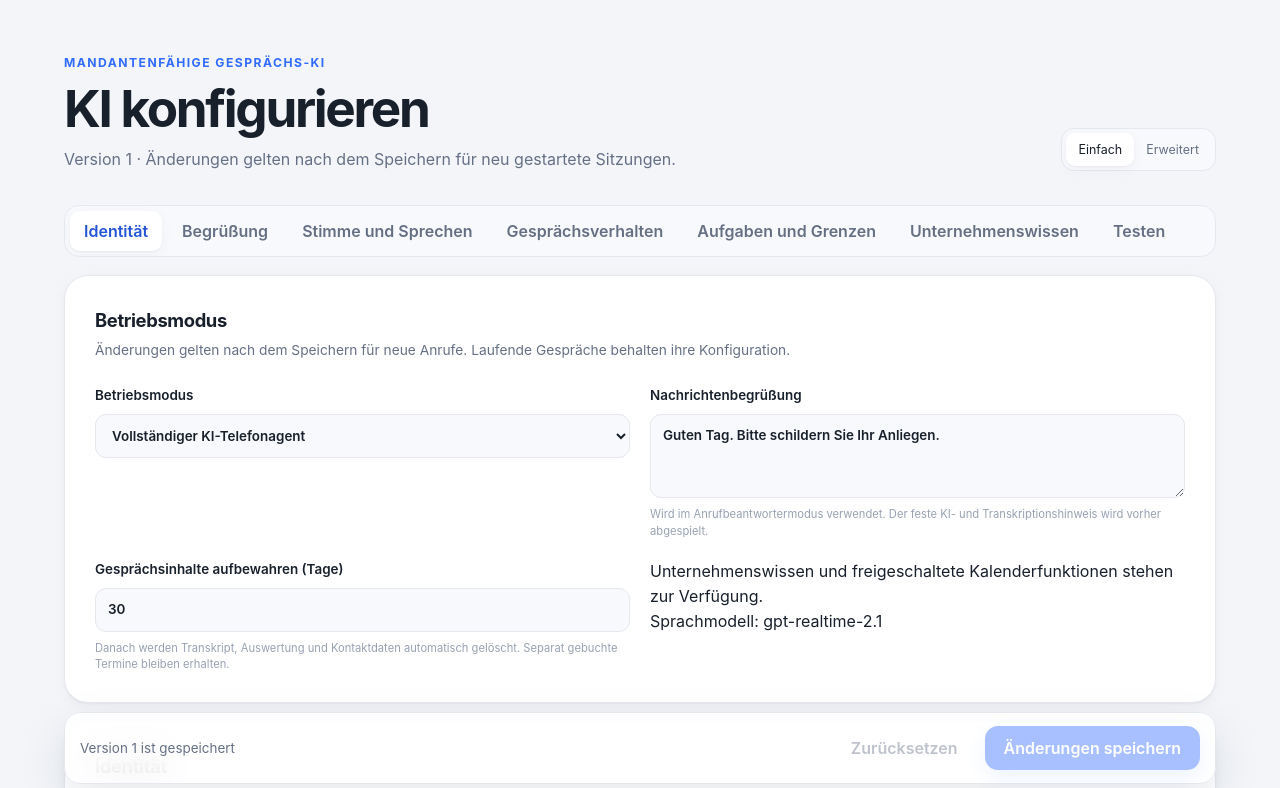
it: KI-Einstellungen › speichert Betriebsmodus, Nachrichtenbegrüßung und Löschfrist
The image size is (1280, 788).
Expected: the heading "KI konfigurieren" is shown, [64,77,428,139]
Select "Intelligenter Anrufbeantworter" in the dropdown labelled "Betriebsmodus" at {"x": 362, "y": 436}, box [95,414,630,458]
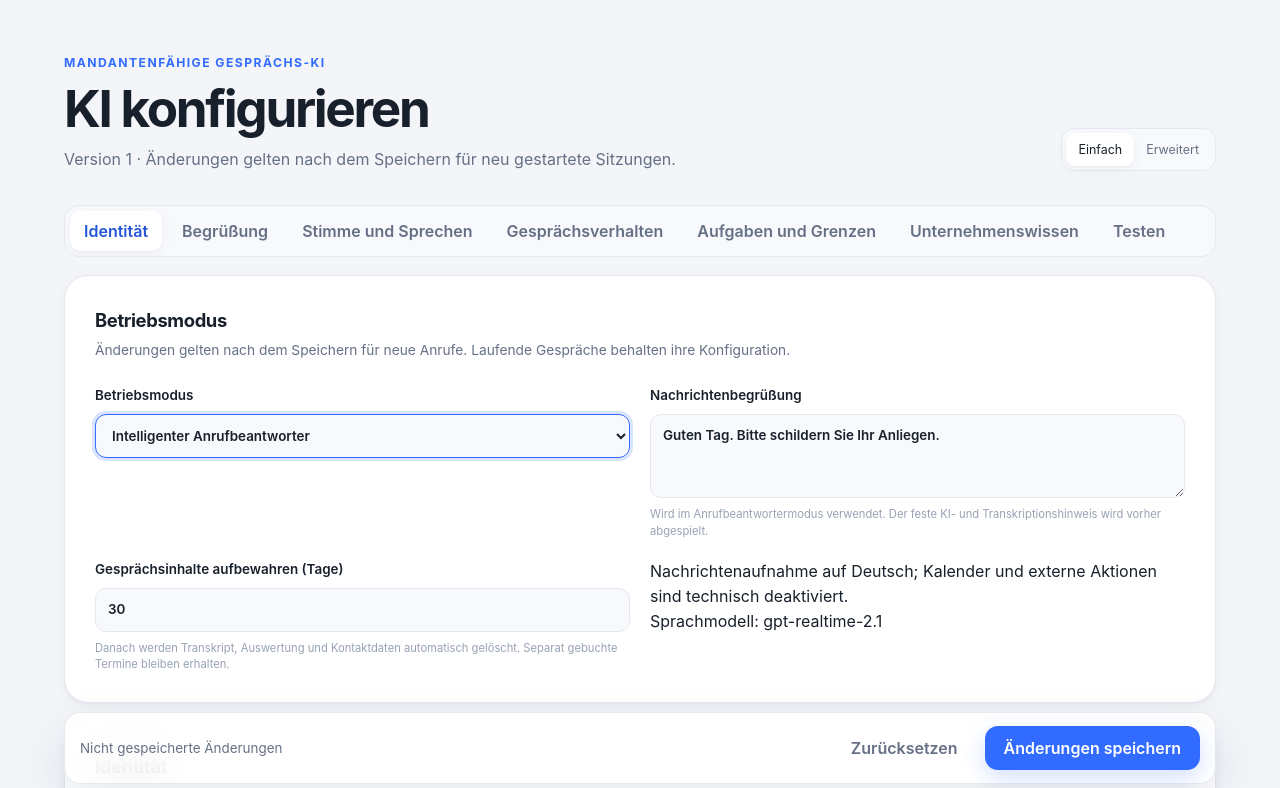
Replace the text in the text box labelled "Nachrichtenbegrüßung" with "Willkommen. Bitte hinterlassen Sie Ihr Anliegen." at {"x": 918, "y": 456}, box [650,414,1185,498]
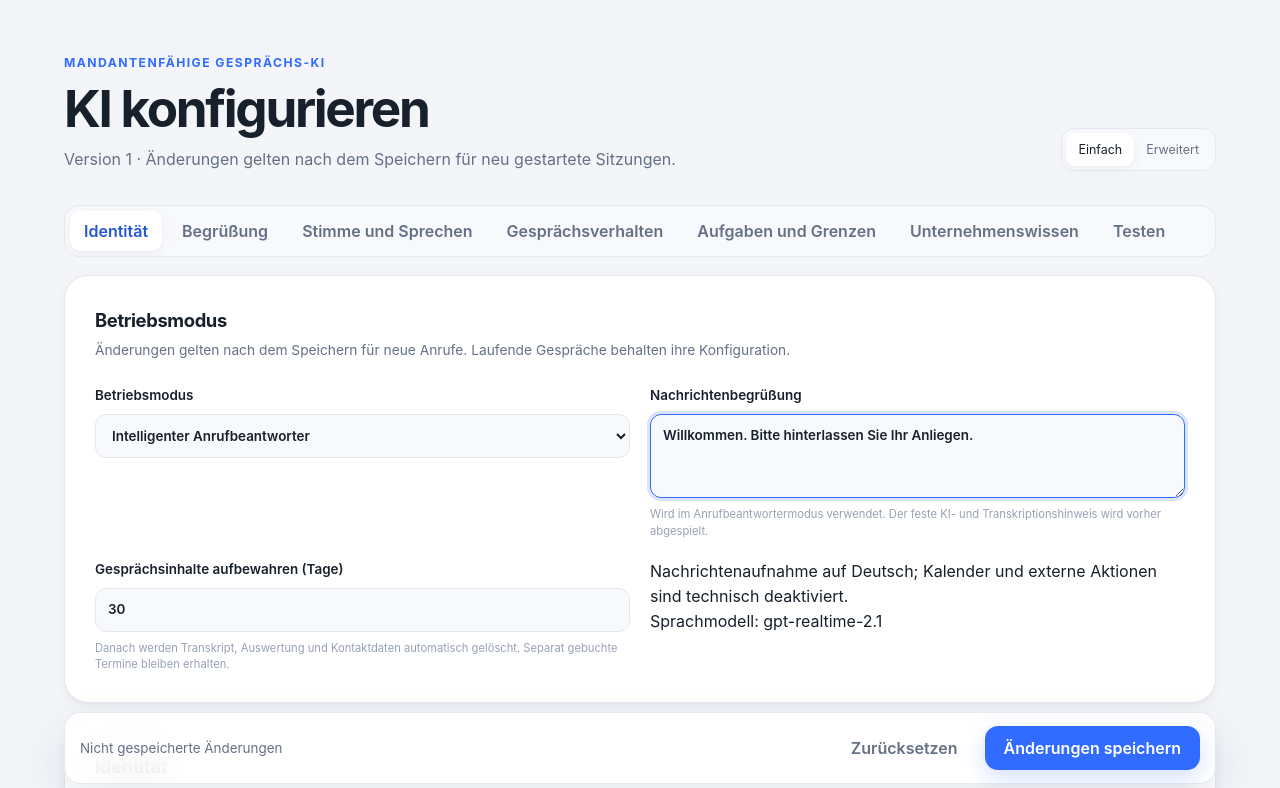
Replace the text in the number field labelled "Gesprächsinhalte aufbewahren" with "14" at {"x": 362, "y": 610}, box [95,588,630,632]
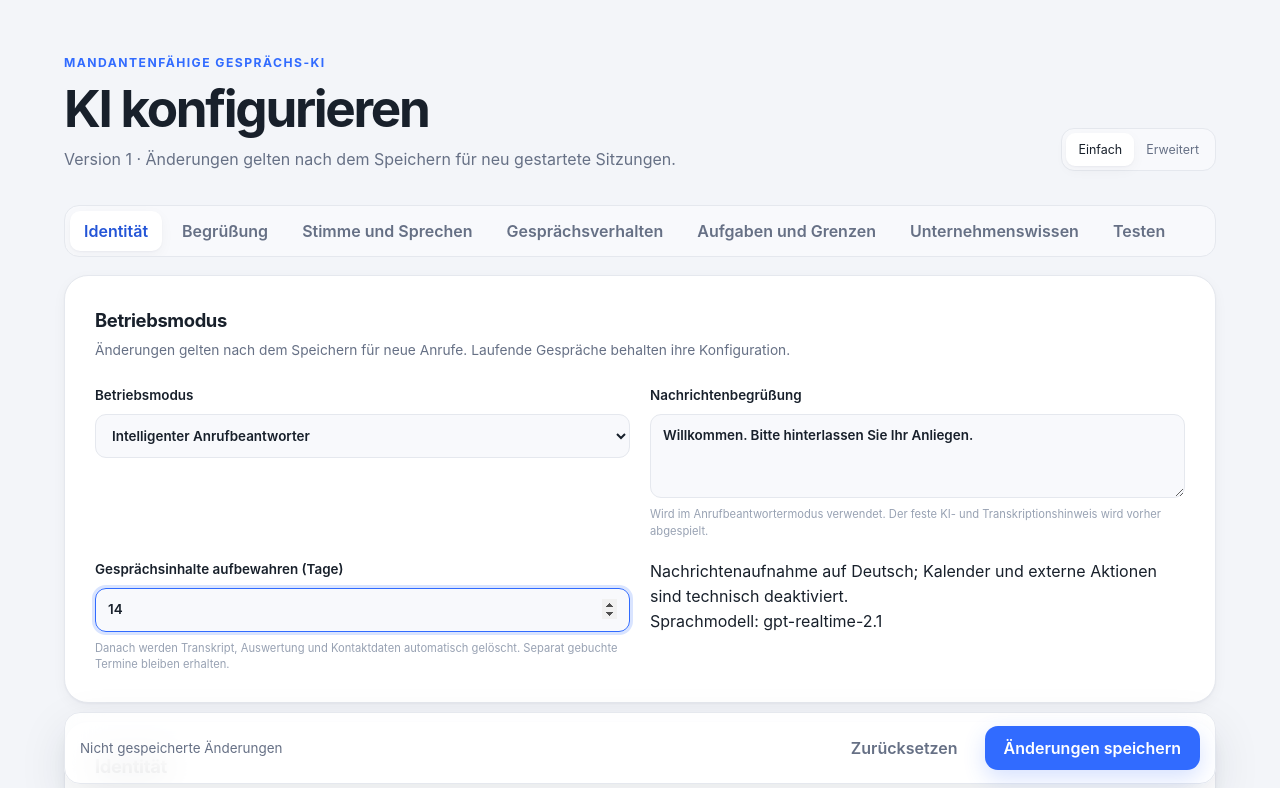
Click the button "Änderungen speichern".
click(1092, 748)  # box [985,726,1200,770]
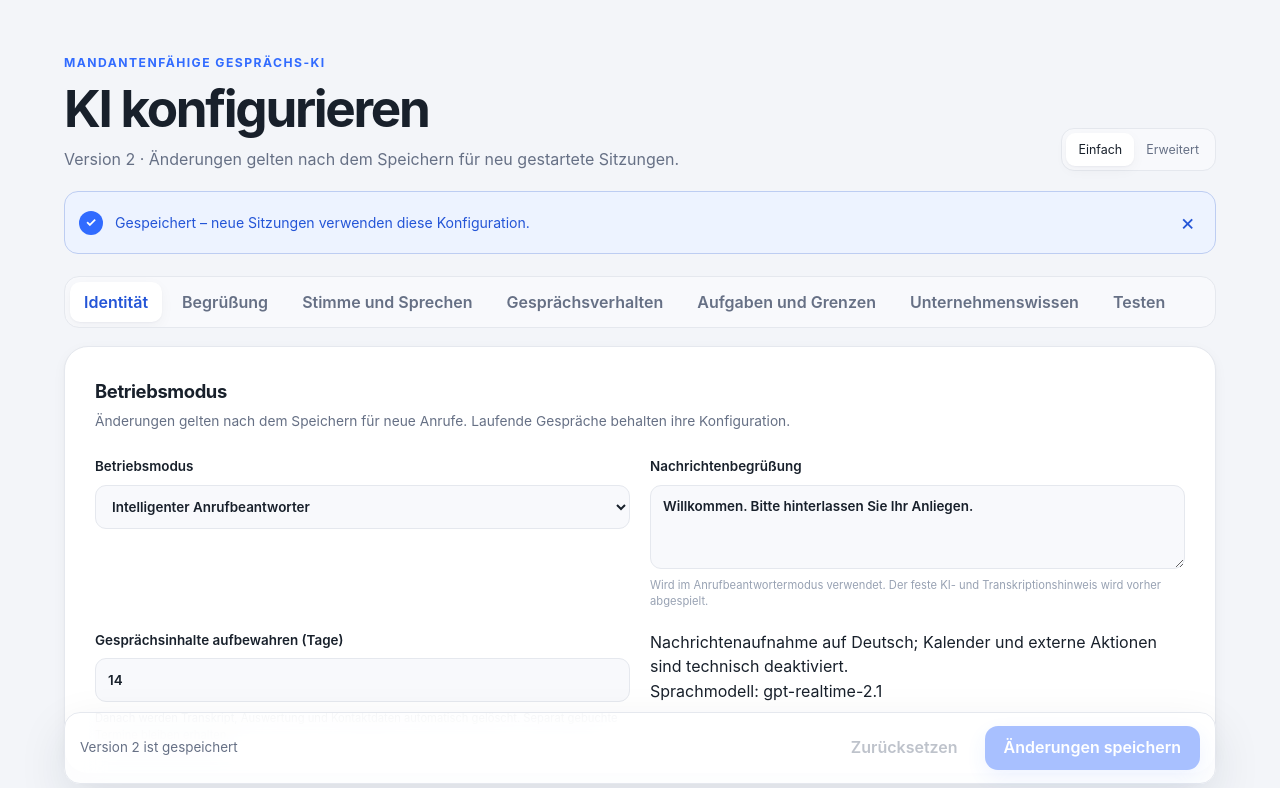
Now the text "Gespeichert – neue Sitzungen verwenden diese Konfiguration." is shown, box [115,214,530,231]
